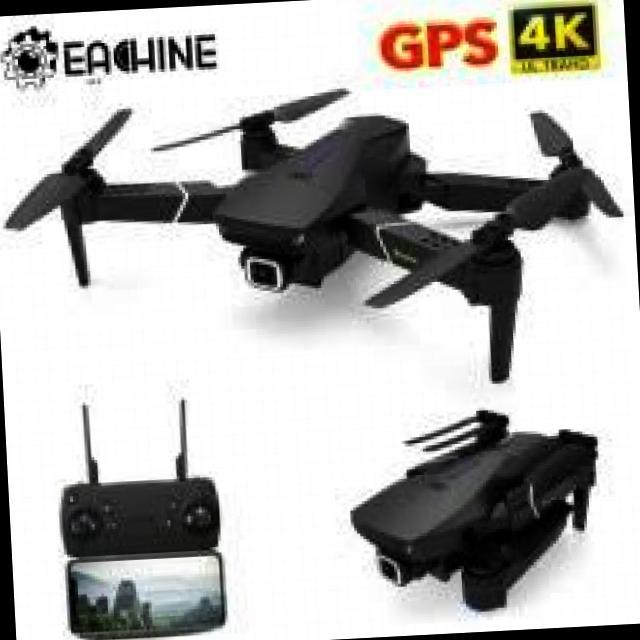drone: (0, 59, 640, 412)
